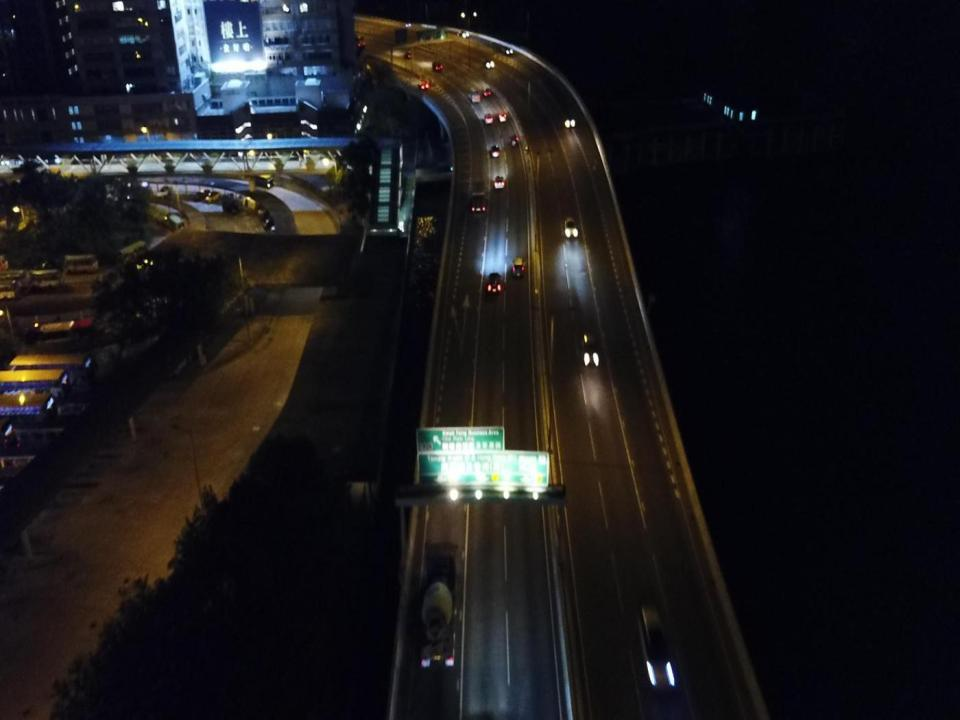bus: (9, 354, 92, 388), (0, 368, 70, 401), (23, 318, 94, 349), (0, 394, 57, 425), (116, 241, 148, 270), (63, 254, 99, 272), (27, 270, 60, 288), (0, 269, 28, 287), (0, 280, 21, 299), (168, 215, 184, 234), (343, 34, 365, 47), (467, 86, 480, 102)
car: (638, 603, 677, 693), (219, 200, 241, 214), (564, 218, 578, 238), (488, 273, 501, 294), (205, 190, 220, 203), (562, 114, 575, 128), (158, 186, 172, 198), (481, 86, 492, 98), (491, 144, 499, 158), (483, 58, 494, 68), (194, 192, 206, 201), (500, 47, 513, 54), (510, 136, 519, 146), (418, 82, 429, 90), (457, 30, 468, 38)
truck: (420, 536, 459, 672), (471, 180, 486, 213)
van: (249, 174, 274, 187), (512, 258, 524, 278), (431, 60, 443, 72), (494, 175, 504, 189), (484, 114, 494, 124), (498, 110, 506, 122)
